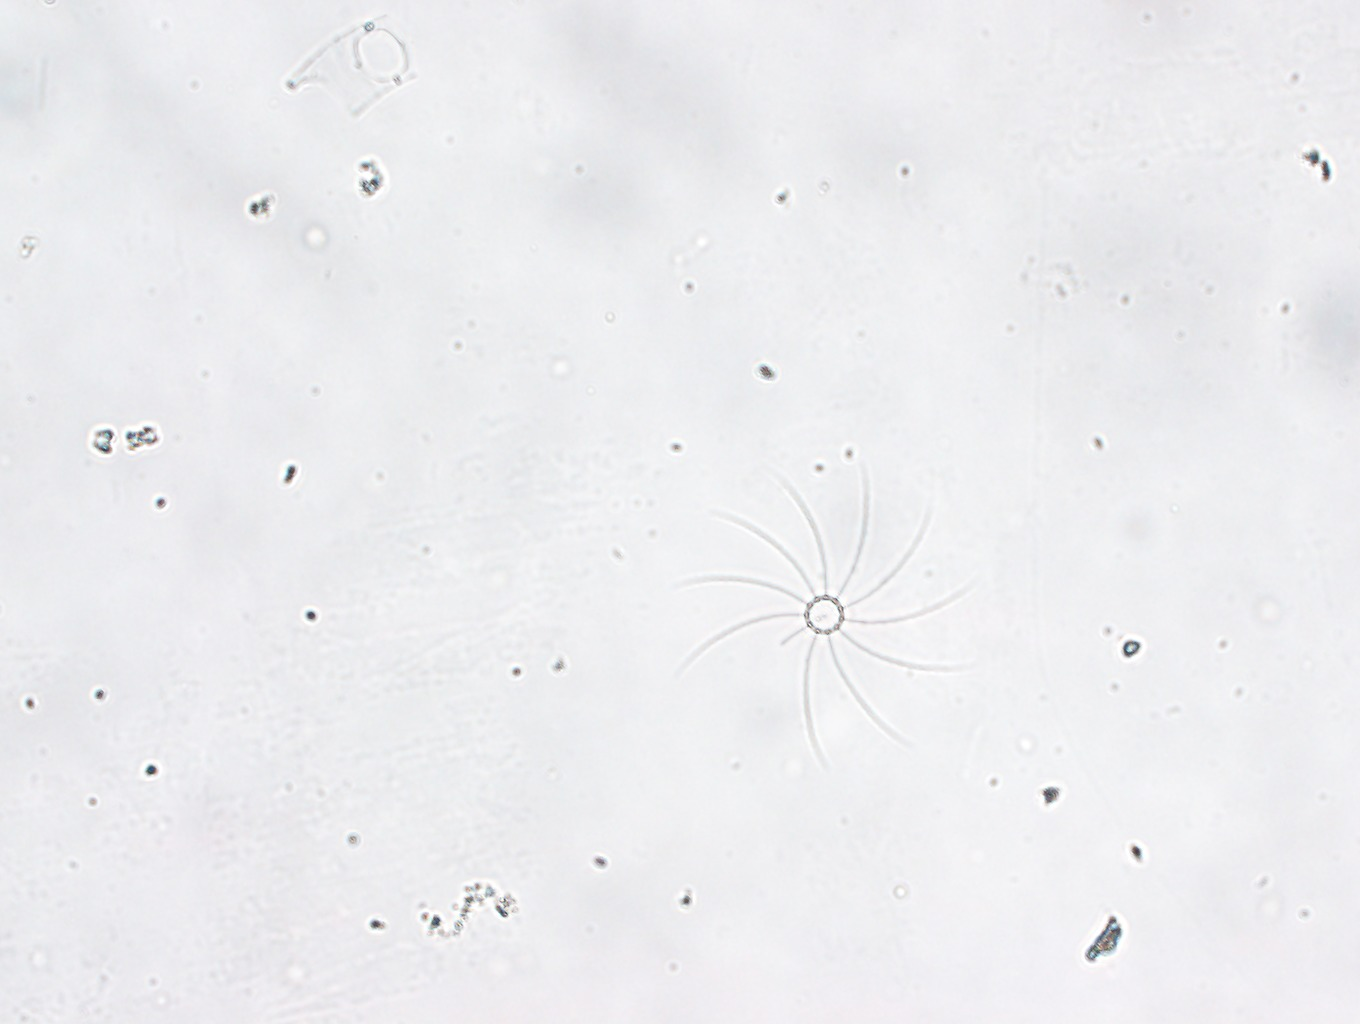bacteriastrum: (675, 466, 980, 768)
